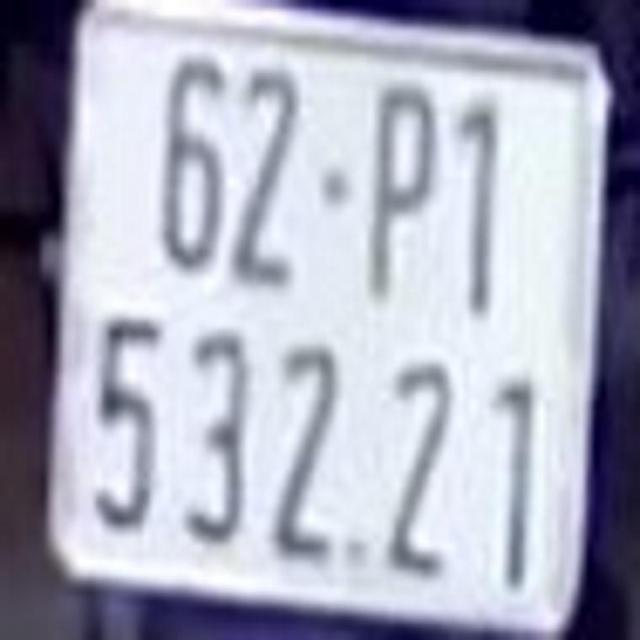1: (487, 369, 532, 592), (452, 98, 496, 319)
2: (386, 352, 450, 578), (243, 67, 298, 287), (283, 345, 335, 562)
3: (188, 327, 245, 540)
5: (98, 312, 155, 532)
6: (158, 41, 222, 265)
P: (372, 82, 432, 301)
